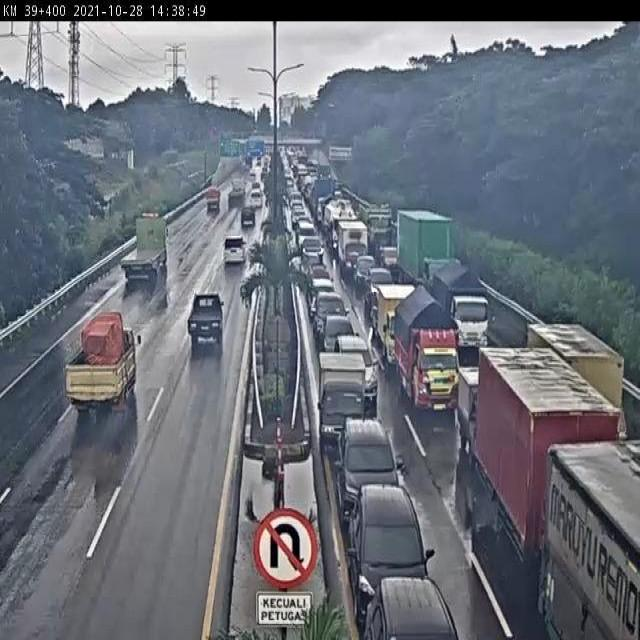big truck: (479, 345, 626, 595), (391, 205, 451, 298), (120, 211, 169, 281), (227, 173, 248, 207)
car: (349, 486, 436, 618), (335, 418, 399, 530), (363, 577, 460, 640), (335, 336, 380, 403), (319, 315, 360, 369), (312, 290, 350, 342), (367, 265, 395, 308), (309, 276, 334, 316), (222, 233, 249, 268), (355, 255, 376, 288), (240, 209, 259, 232)
small bus: (247, 188, 265, 209)
small truck: (527, 323, 620, 457), (393, 287, 462, 416), (62, 308, 142, 409), (458, 365, 521, 468), (432, 262, 491, 358), (317, 348, 369, 449), (377, 283, 420, 369), (186, 292, 224, 343), (339, 220, 369, 276), (203, 187, 222, 216)
